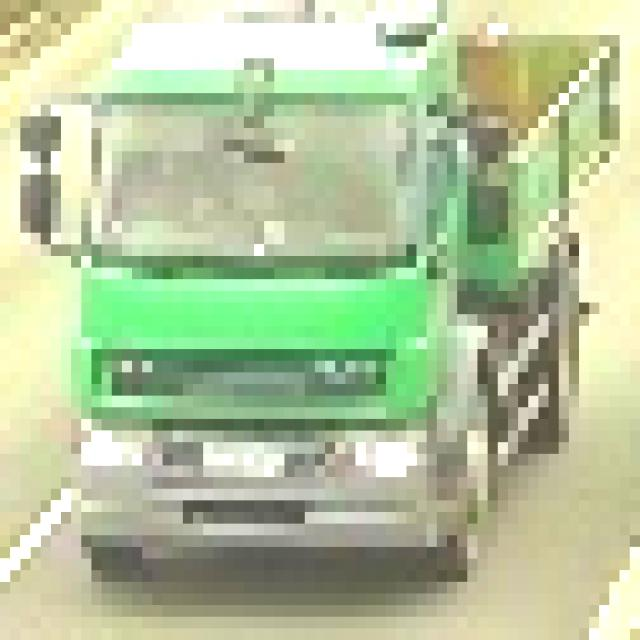truck: (10, 0, 610, 582)
